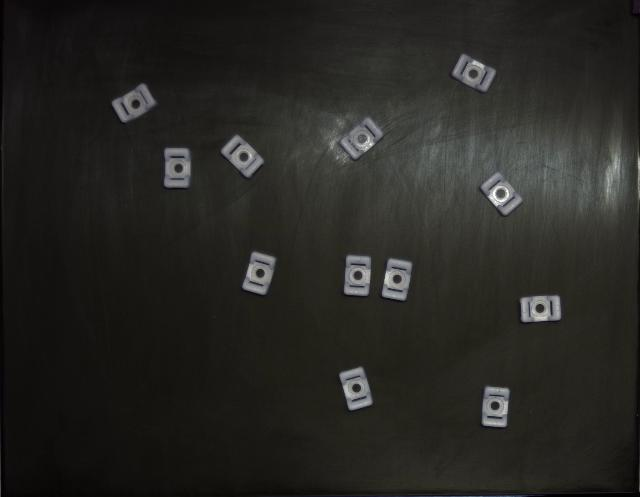first_side: (221, 135, 265, 179), (340, 118, 384, 160), (480, 172, 522, 216), (112, 84, 158, 122), (451, 54, 496, 92), (242, 253, 276, 295), (340, 368, 372, 411), (381, 259, 412, 301), (481, 386, 510, 429), (164, 148, 191, 189), (344, 255, 371, 296), (520, 296, 561, 322)
